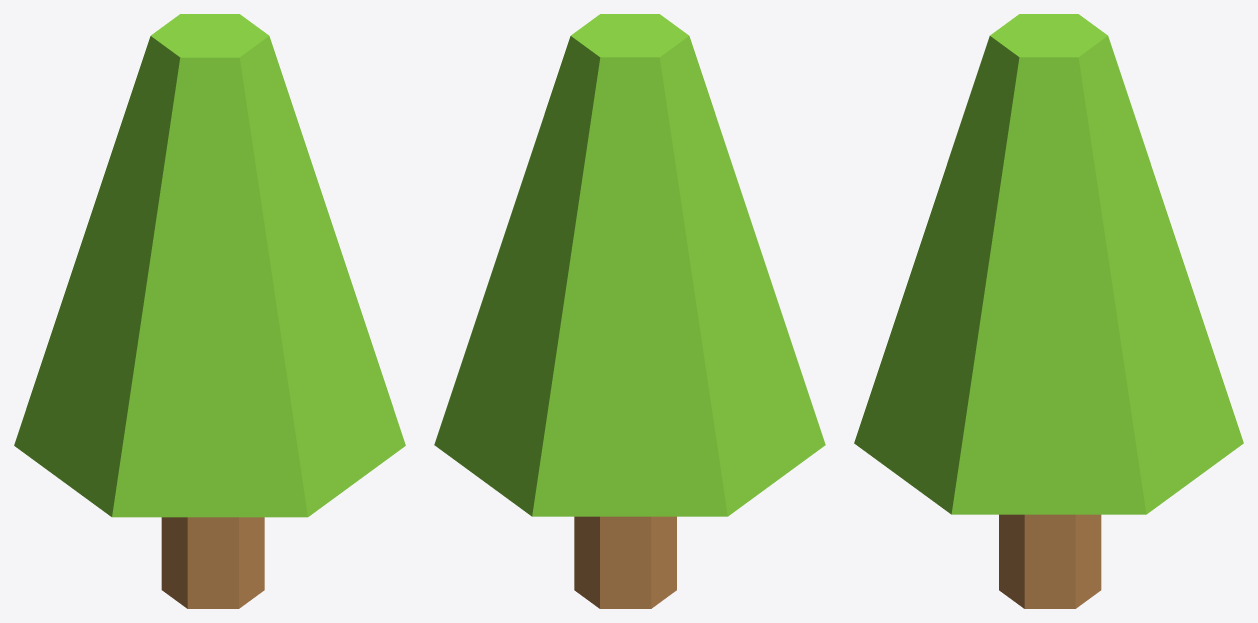
File: tree.glb
The picture shows the model from 3 angles, left to right: view 1: azimuth 30°, elevation 25°; view 2: azimuth 150°, elevation 25°; view 3: azimuth 270°, elevation 25°; orthographic projection.
Visible parts, largest first — view 1: Cylinder, tree; view 2: Cylinder, tree; view 3: Cylinder, tree.
Boxes of the visible parts, x1=… form: Cylinder: x1=14, y1=14, x2=405, y2=517; tree: x1=161, y1=517, x2=264, y2=608; Cylinder: x1=434, y1=14, x2=825, y2=516; tree: x1=574, y1=516, x2=676, y2=608; Cylinder: x1=854, y1=14, x2=1243, y2=514; tree: x1=999, y1=514, x2=1101, y2=608.
Bounding box in the file's own units: 1.64 × 2.96 × 1.89.
